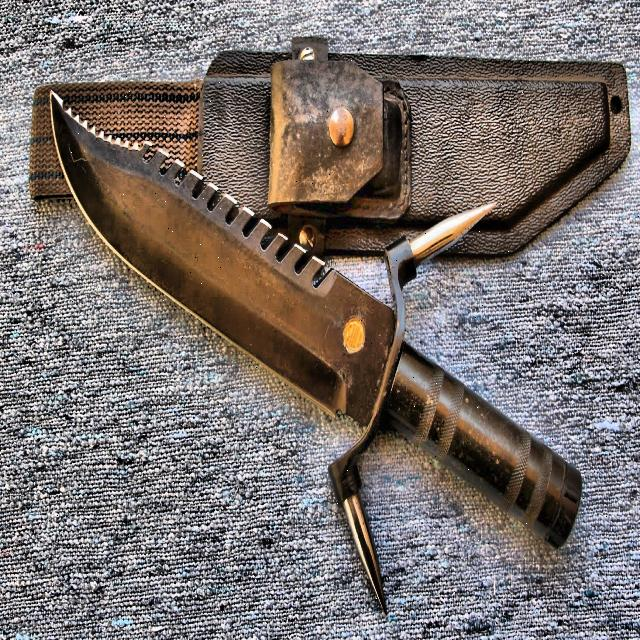knife: (49, 96, 581, 616)
